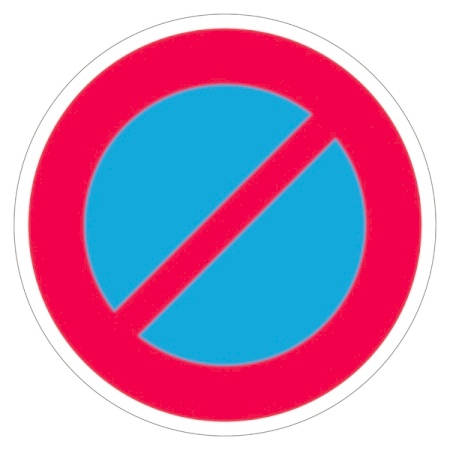Prohibition_sign: (3, 1, 445, 449)
